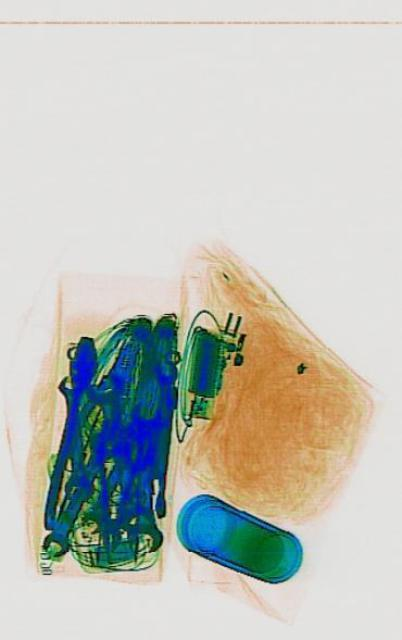Pliers: (54, 328, 149, 516)
Wrench: (38, 448, 103, 564), (124, 400, 163, 554), (54, 372, 91, 492), (75, 453, 126, 537)
